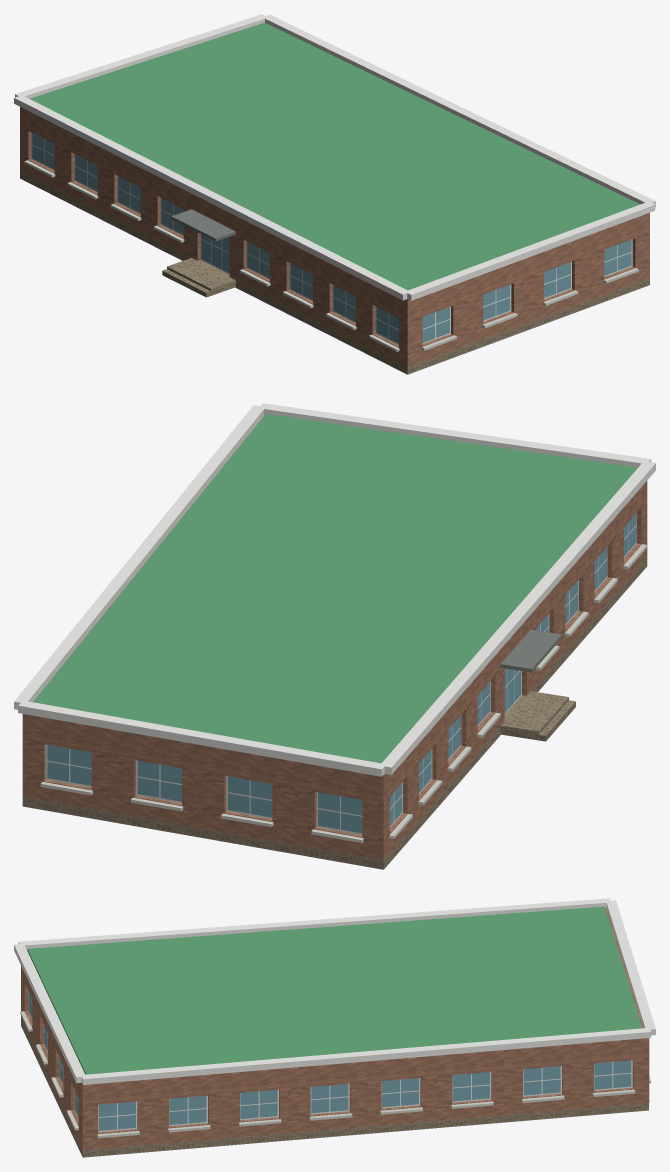
3 renders of one model, top to bottom at view 1: azimuth 30°, elevation 25°; view 2: azimuth 150°, elevation 25°; view 3: azimuth 270°, elevation 25°, orthographic. The views are drawn at different scales.
Visible parts, largest first — view 1: cafeteria__green, cafeteria__brick, cafeteria__cap, cafeteria__glass, cafeteria__stone, cafeteria__frame, cafeteria__sill, cafeteria__threshold-front, cafeteria__entrance, cafeteria__stair-front; view 2: cafeteria__green, cafeteria__brick, cafeteria__cap, cafeteria__glass, cafeteria__stone, cafeteria__sill, cafeteria__frame, cafeteria__threshold-front, cafeteria__entrance, cafeteria__stair-front; view 3: cafeteria__green, cafeteria__brick, cafeteria__cap, cafeteria__glass, cafeteria__stone, cafeteria__frame, cafeteria__sill.
Part boxes in pixels (bbox=[...]): cafeteria__green: bbox=[29, 22, 639, 290]; cafeteria__brick: bbox=[20, 107, 649, 367]; cafeteria__cap: bbox=[14, 14, 655, 300]; cafeteria__glass: bbox=[32, 132, 631, 343]; cafeteria__stone: bbox=[20, 171, 649, 374]; cafeteria__frame: bbox=[31, 132, 632, 344]; cafeteria__sill: bbox=[24, 160, 638, 351]; cafeteria__threshold-front: bbox=[172, 258, 235, 293]; cafeteria__entrance: bbox=[171, 209, 235, 241]; cafeteria__stair-front: bbox=[162, 265, 215, 297]; cafeteria__green: bbox=[33, 414, 637, 763]; cafeteria__brick: bbox=[22, 416, 647, 860]; cafeteria__cap: bbox=[14, 403, 655, 776]; cafeteria__glass: bbox=[47, 513, 636, 833]; cafeteria__stone: bbox=[22, 557, 647, 869]; cafeteria__sill: bbox=[40, 544, 646, 842]; cafeteria__frame: bbox=[45, 512, 636, 834]; cafeteria__threshold-front: bbox=[500, 691, 561, 739]; cafeteria__entrance: bbox=[500, 629, 561, 672]; cafeteria__stair-front: bbox=[532, 696, 575, 741]; cafeteria__green: bbox=[27, 906, 641, 1074]; cafeteria__brick: bbox=[21, 908, 649, 1150]; cafeteria__cap: bbox=[14, 898, 655, 1084]; cafeteria__glass: bbox=[29, 992, 631, 1130]; cafeteria__stone: bbox=[21, 1019, 648, 1157]; cafeteria__frame: bbox=[28, 990, 632, 1131]; cafeteria__sill: bbox=[20, 1011, 650, 1138].
Bounding box in the file's own units: 23.31 × 4.88 × 34.95.
8 materials, 2 textured.
